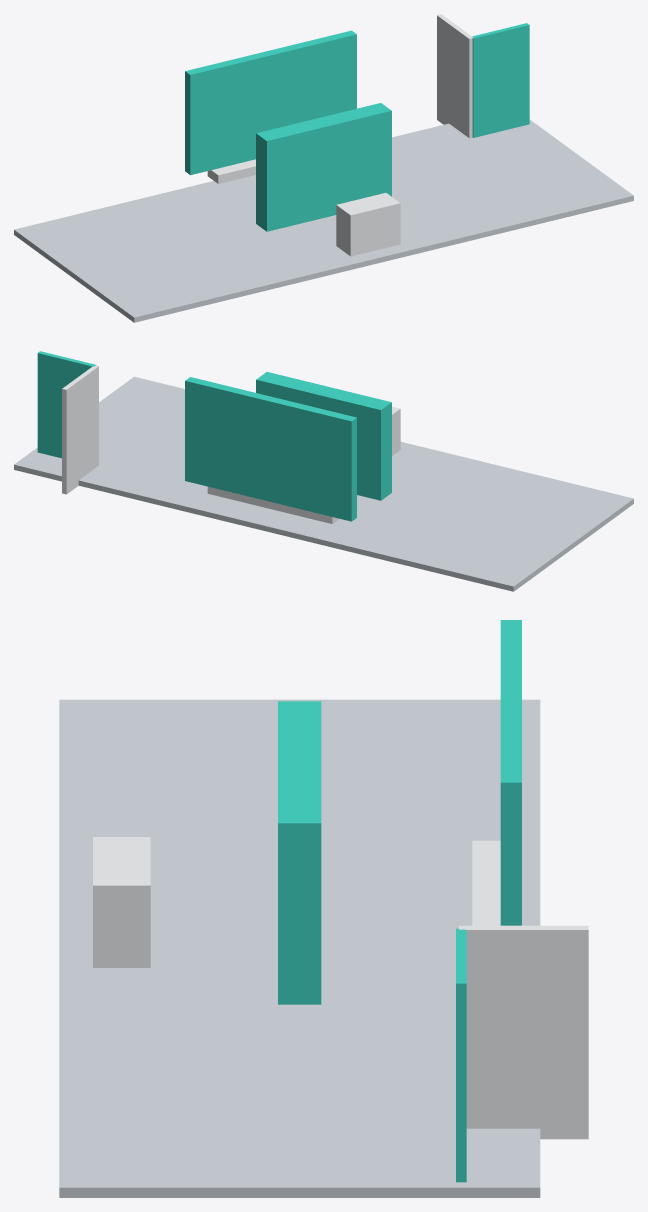
3 renders of one model, top to bottom at view 1: azimuth 30°, elevation 25°; view 2: azimuth 150°, elevation 25°; view 3: azimuth 270°, elevation 25°, orthographic. The views are drawn at different scales.
Parts seen in each view (by area): view 1: Exhibition Booth Concept; view 2: Exhibition Booth Concept; view 3: Exhibition Booth Concept.
Boxes of the visible parts, x1,y1,x2,y2 form: Exhibition Booth Concept: (14, 14, 633, 322); Exhibition Booth Concept: (14, 351, 633, 591); Exhibition Booth Concept: (59, 620, 588, 1197).
Size of the model in its own units: 12 by 2.9 by 5.51.
